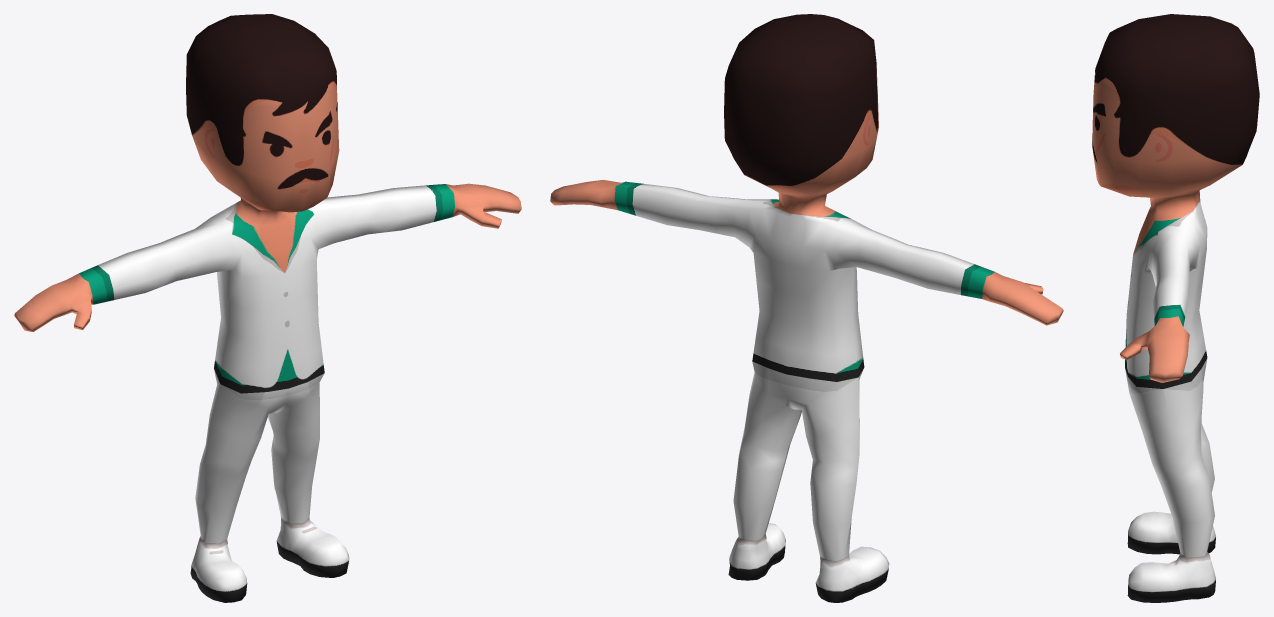
File: higeoji.fbx
3 renders of one model, left to right at view 1: azimuth 30°, elevation 25°; view 2: azimuth 150°, elevation 25°; view 3: azimuth 270°, elevation 25°, orthographic.
Parts seen in each view (by area): view 1: characterMedium; view 2: characterMedium; view 3: characterMedium.
Boxes of the visible parts, x1=… form: characterMedium: x1=14, y1=14, x2=521, y2=602; characterMedium: x1=550, y1=14, x2=1063, y2=602; characterMedium: x1=1092, y1=14, x2=1259, y2=602.
Bounding box in the file's own units: 3.62 × 3.76 × 1.05.
Materials: 1 (1 with a texture image).
